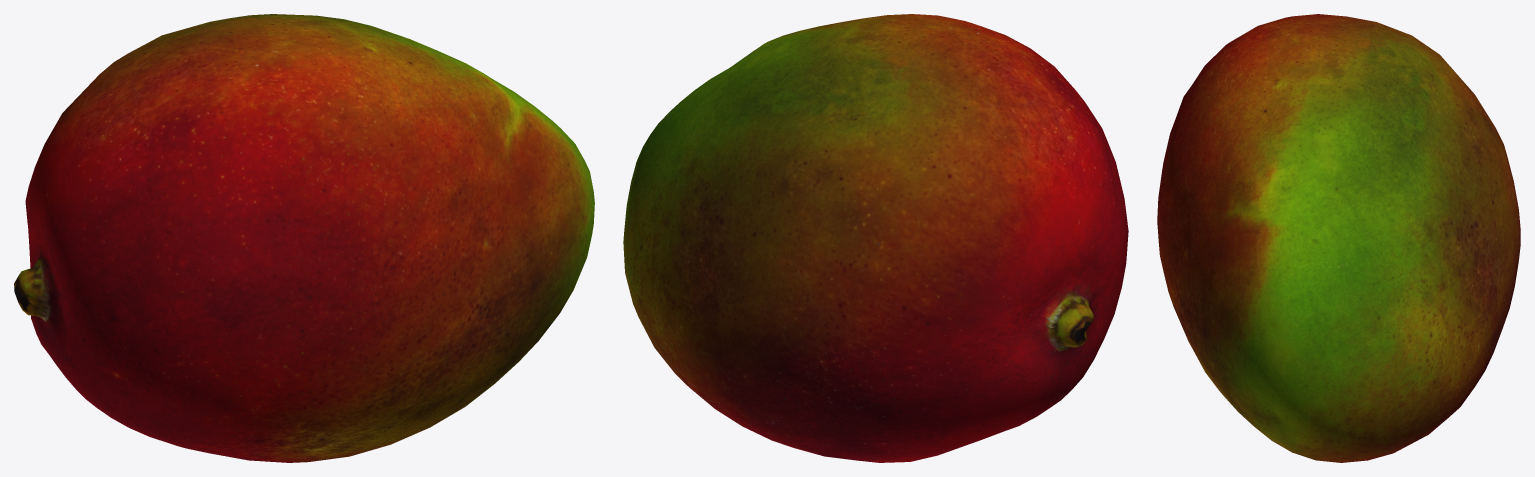
The model's file is mango.glb.
3 views of the same model, side by side, from view 1: azimuth 30°, elevation 25°; view 2: azimuth 150°, elevation 25°; view 3: azimuth 270°, elevation 25° (orthographic). The views are drawn at different scales.
Visible parts, largest first — view 1: Object_2; view 2: Object_2; view 3: Object_2.
Boxes of the visible parts, x1,y1,x2,y2 form: Object_2: [14, 14, 594, 462]; Object_2: [623, 14, 1128, 462]; Object_2: [1157, 14, 1520, 462].
Size of the model in its own units: 31.28 by 25.1 by 22.32.
1 material, 1 textured.
